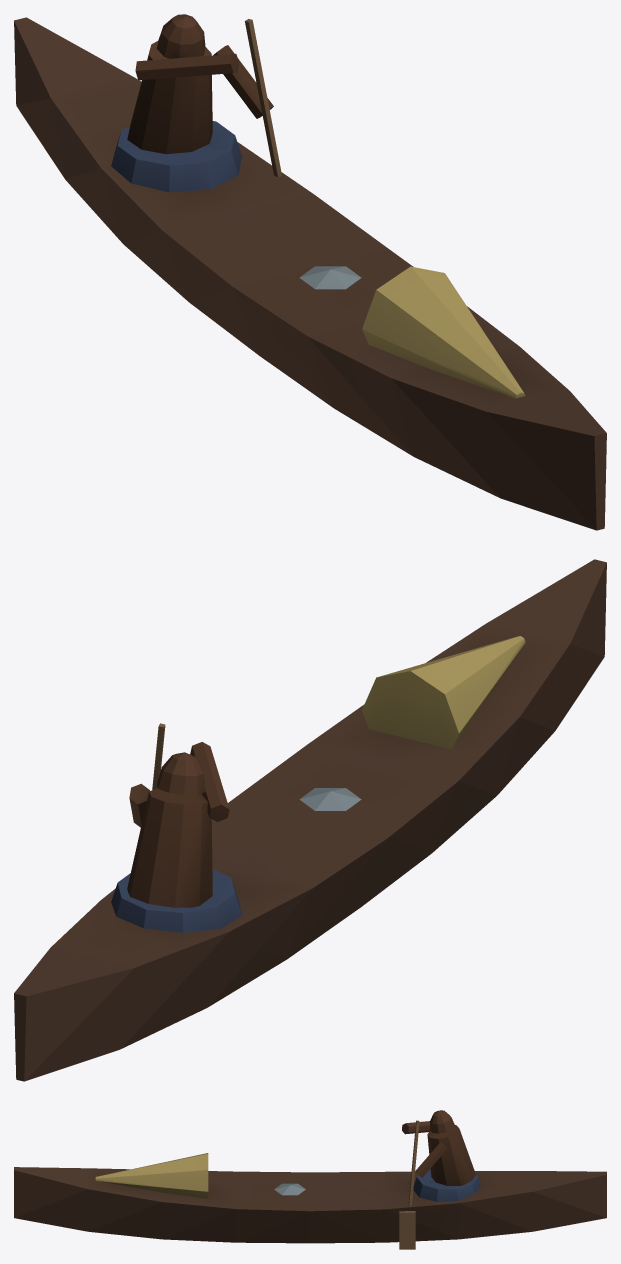
The model's file is skiff.glb.
The picture shows the model from 3 angles, top to bottom: view 1: azimuth 30°, elevation 25°; view 2: azimuth 150°, elevation 25°; view 3: azimuth 270°, elevation 25°; orthographic projection. The views are drawn at different scales.
Parts seen in each view (by area): view 1: base; view 2: base; view 3: base.
Part boxes in pixels (<box>): base: <box>14,14,606,530</box>; base: <box>14,559,606,1081</box>; base: <box>14,1110,606,1249</box>.
Bounding box in the file's own units: 0.8999 × 1.3 × 5.8.
